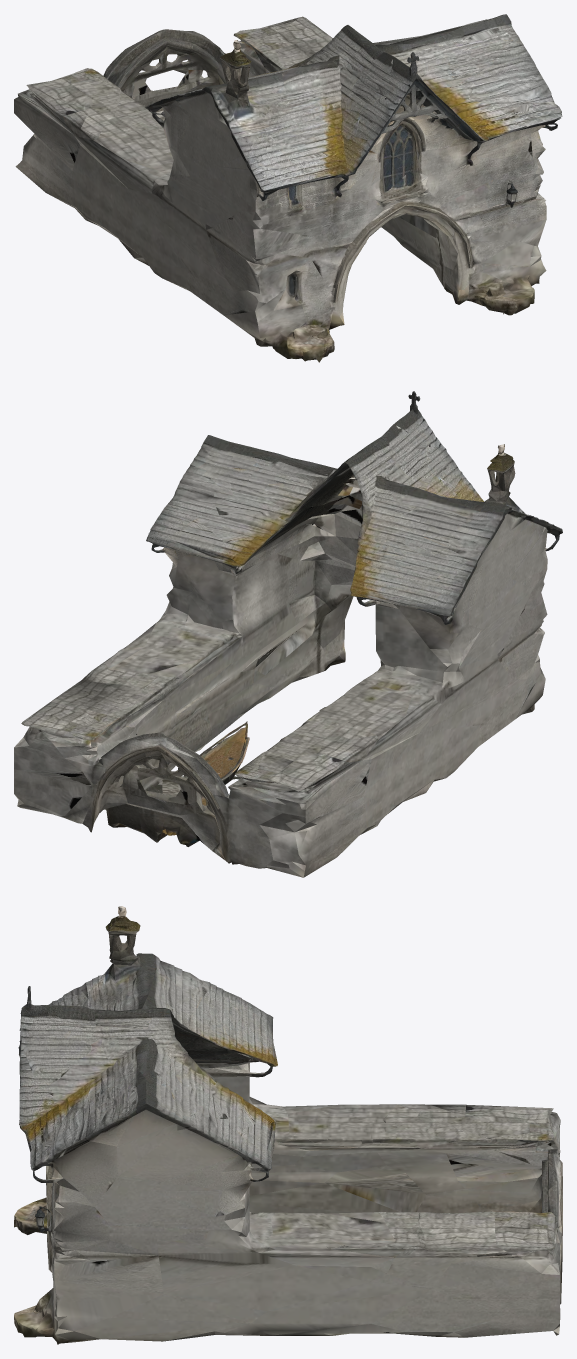
Rendered from boathouse.lo.glb.
The picture shows the model from 3 angles, top to bottom: view 1: azimuth 30°, elevation 25°; view 2: azimuth 150°, elevation 25°; view 3: azimuth 270°, elevation 25°; orthographic projection. The views are drawn at different scales.
Visible parts, largest first — view 1: output_unwrapped; view 2: output_unwrapped; view 3: output_unwrapped.
Boxes of the visible parts, x1,y1,x2,y2 form: output_unwrapped: (14, 14, 562, 362); output_unwrapped: (14, 391, 562, 877); output_unwrapped: (14, 906, 562, 1344).
Bounding box in the file's own units: 12.12 × 11.02 × 18.
1 material, 1 textured.
